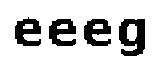e: (9, 15, 45, 50), (47, 17, 80, 50), (84, 17, 113, 49)
g: (117, 15, 150, 60)
